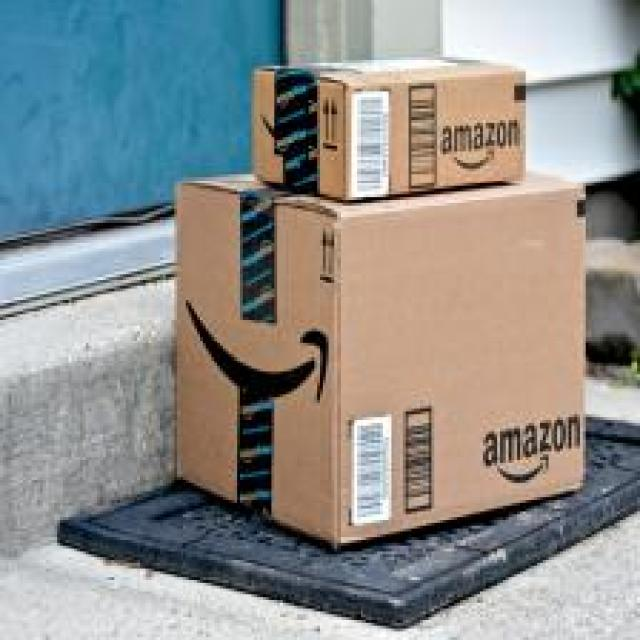box: (171, 161, 589, 550), (250, 56, 530, 202)
